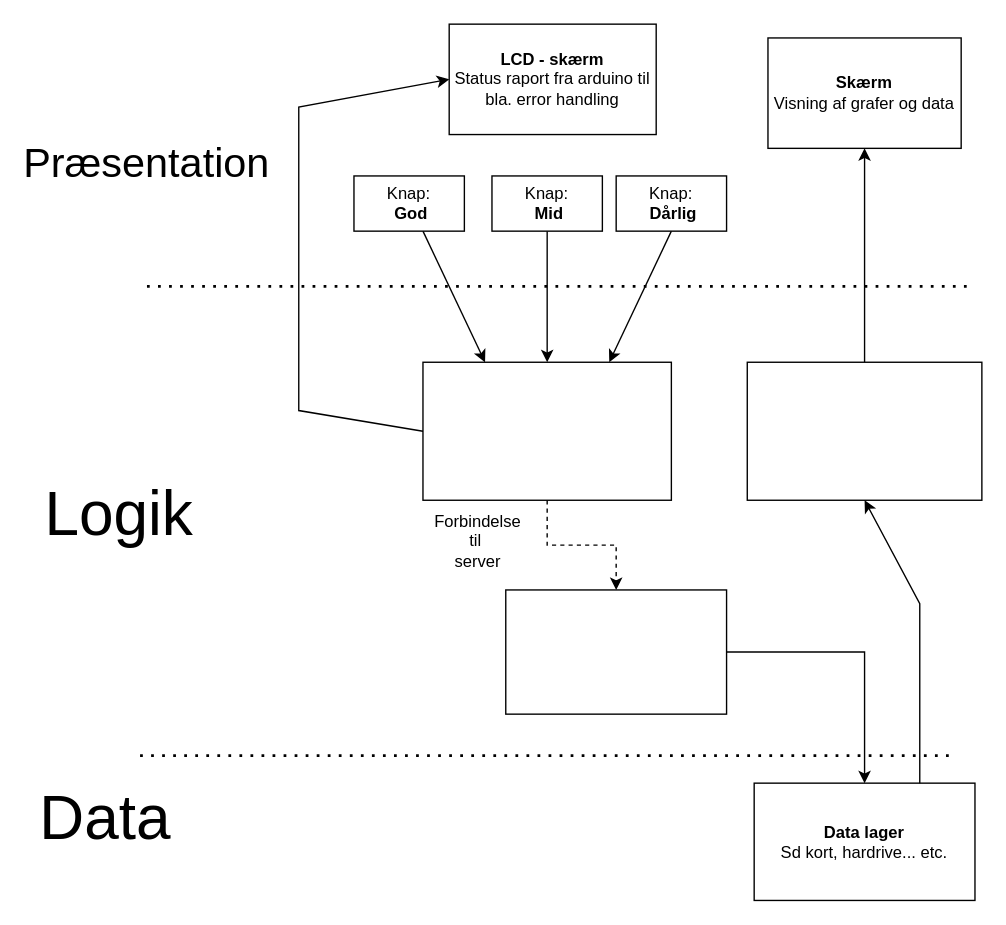
This 1006x925 diagram has some shape labels left out. Here are the shapes that lost their labels. From the top down, the centre of each, then its label:
At point 546,430: "Arduino Opsamling og videresendelse af inputs fra knapper".
At point 864,430: "Computer Bearbejdning af data og udregning af grafik".
At point 615,651: "Netværks Server Forbindelse mellem data lageret og arduino".
